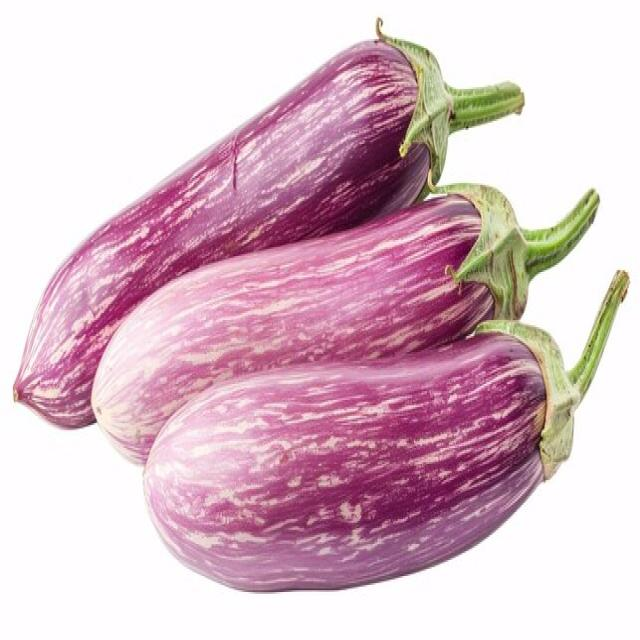Eggplant: (12, 16, 524, 428), (141, 265, 629, 592), (90, 180, 600, 466)
